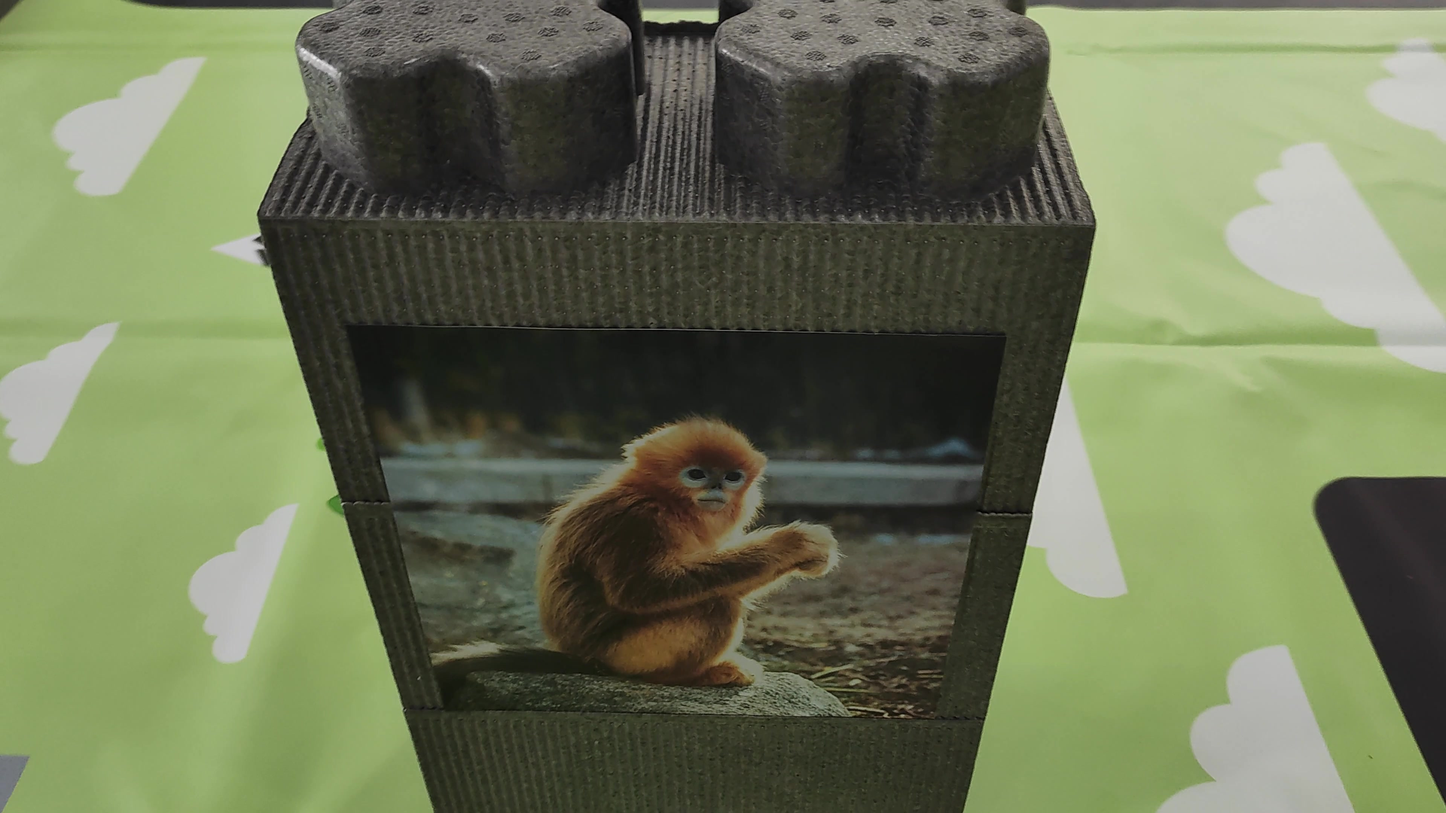monkey: (379, 345, 879, 743)
